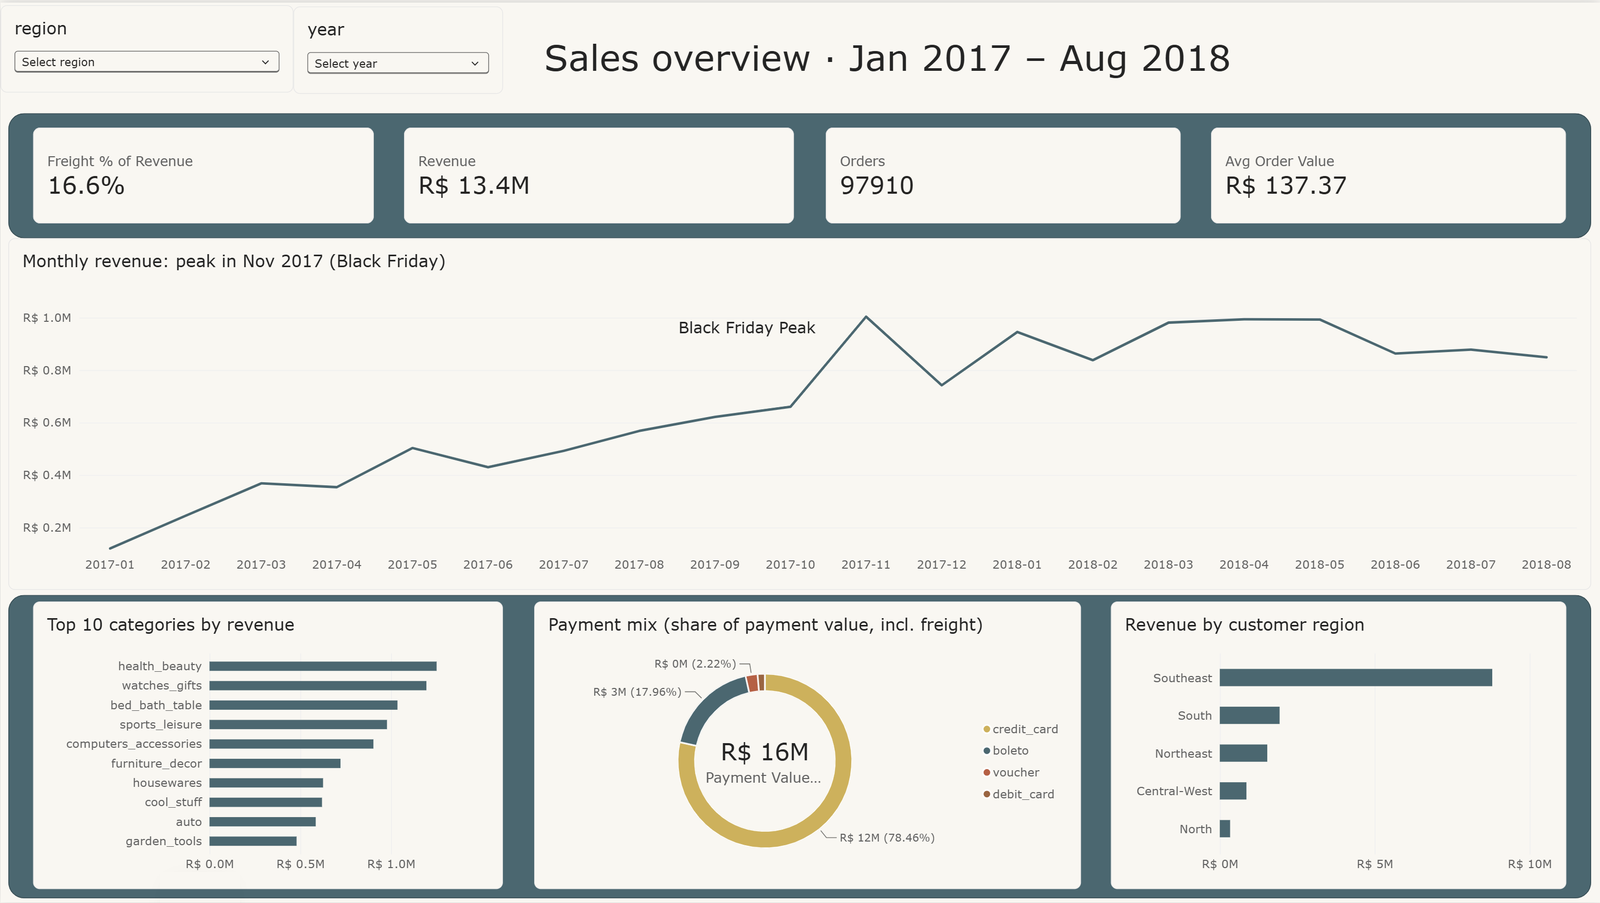

The page's visual inventory and layout, read from the dashboard file:
{"tool":"powerbi","page":{"name":"Sales","canvas":[1920,1080],"ordinal":0},"visuals":[{"type":"textbox","box":[10,0,280,105.7],"z":0},{"type":"textbox","box":[603.1,39.1,923.4,75],"z":1000},{"type":"shape","box":[9.4,133.3,1900,150],"z":2000},{"type":"listSlicer","fields":{"Values":["customer.region"]},"box":[0,3.6,351.6,104.7],"z":3000},{"type":"listSlicer","fields":{"Values":["dim_date.year"]},"box":[351.6,5.1,251.6,104.7],"z":4000},{"type":"cardVisual","fields":{"Data":["_Measures.Revenue"]},"box":[484.9,150,468.8,115.6],"z":5000},{"type":"cardVisual","fields":{"Data":["_Measures.Orders"]},"box":[990.1,150,426.6,115.6],"z":6000},{"type":"cardVisual","fields":{"Data":["_Measures.Avg Order Value"]},"box":[1453.1,150,426.6,115.6],"z":7000},{"type":"cardVisual","fields":{"Data":["_Measures.Freight % of Revenue"]},"box":[39.1,150,409.4,115.6],"z":8000},{"type":"lineChart","title":"\tMonthly revenue: peak in Nov 2017 (Black Friday)","fields":{"Category":["dim_date.year_month"],"Y":["_Measures.Revenue"]},"box":[9.4,283.3,1900,421.9],"z":9000},{"type":"shape","box":[9.4,710.9,1900,364.1],"z":9500},{"type":"textbox","box":[773.4,378.1,245.3,32.8],"z":10000},{"type":"clusteredBarChart","title":"\tTop 10 categories by revenue","fields":{"Category":["product.category"],"Y":["_Measures.Revenue"]},"box":[39.1,719.5,564.1,345.3],"z":11000},{"type":"donutChart","title":"Payment mix (share of payment value, incl. freight)","fields":{"Category":["payments.payment_type"],"Y":["_Measures.Payment Value"]},"box":[639.8,719.5,656.2,345.3],"z":12000},{"type":"clusteredBarChart","title":"\tRevenue by customer region","fields":{"Category":["customer.region"],"Y":["_Measures.Revenue"]},"box":[1332.8,719.5,546.9,345.3],"z":14000}]}

Visuals, with their boxes in screenshot pixels (x1, y1, x2, y2), scaled from the page's 1920x1080 canvas onto the 1600x903 screenshot:
textbox: bbox(8, 0, 242, 88)
textbox: bbox(503, 33, 1272, 95)
shape: bbox(8, 111, 1591, 237)
listSlicer - customer.region: bbox(0, 3, 293, 91)
listSlicer - dim_date.year: bbox(293, 4, 503, 92)
cardVisual - _Measures.Revenue: bbox(404, 125, 795, 222)
cardVisual - _Measures.Orders: bbox(825, 125, 1181, 222)
cardVisual - _Measures.Avg Order Value: bbox(1211, 125, 1566, 222)
cardVisual - _Measures.Freight % of Revenue: bbox(33, 125, 374, 222)
"	Monthly revenue: peak in Nov 2017 (Black Friday)" lineChart: bbox(8, 237, 1591, 590)
shape: bbox(8, 594, 1591, 899)
textbox: bbox(644, 316, 849, 344)
"	Top 10 categories by revenue" clusteredBarChart: bbox(33, 602, 503, 890)
"Payment mix (share of payment value, incl. freight)" donutChart: bbox(533, 602, 1080, 890)
"	Revenue by customer region" clusteredBarChart: bbox(1111, 602, 1566, 890)
